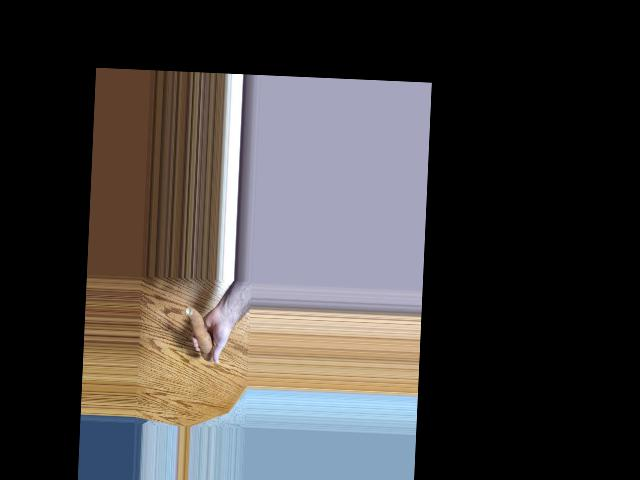sweet_potato: (183, 304, 215, 359)
